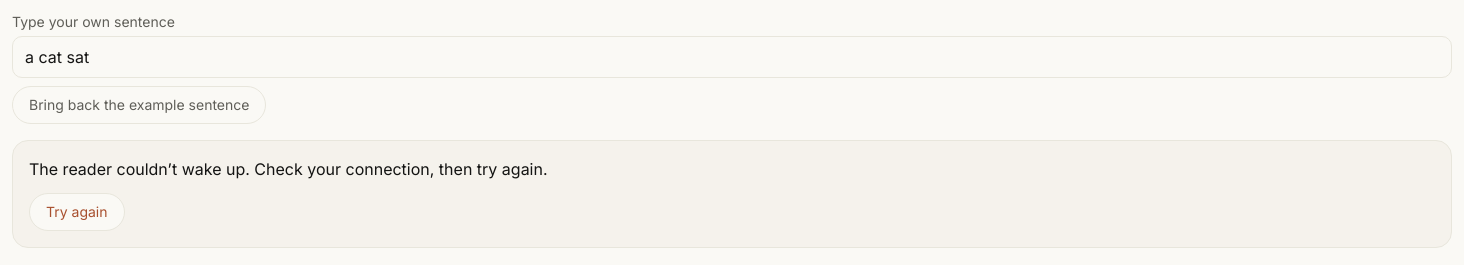
Scenario: the attention scene › says which part failed and tries again on request (ATT-06)
Check: the message shows "The reader couldn’t wake up. Check your connection, then try again.", box [29,159,548,179]
What coordinates should you click on to do the following:
click the button "Try again"
I would click on:
 (77, 212)
Its box is [29,193,124,231].
Wait 300 ms
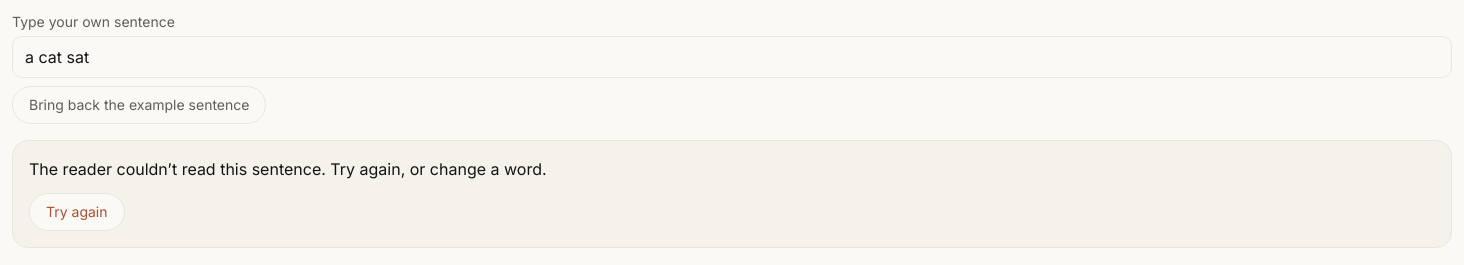
Check: the message shows "The reader couldn’t read this sentence. Try again, or change a word.", box [29,159,547,179]
